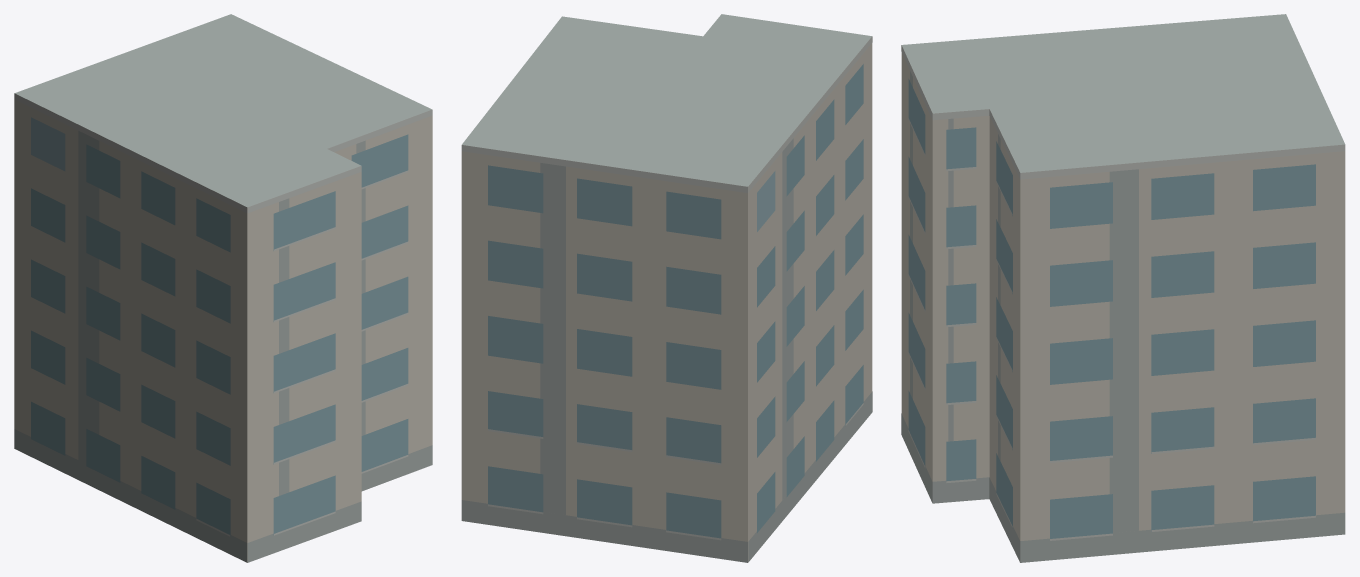
The model's file is survey-upis-32992118.glb.
The picture shows the model from 3 angles, left to right: view 1: azimuth 30°, elevation 25°; view 2: azimuth 150°, elevation 25°; view 3: azimuth 270°, elevation 25°; orthographic projection. The views are drawn at different scales.
Visible parts, largest first — view 1: survey-upis-32992118.tmp; view 2: survey-upis-32992118.tmp; view 3: survey-upis-32992118.tmp.
Part boxes in pixels (x1,y1,x2,y2): survey-upis-32992118.tmp: (14,14,432,562); survey-upis-32992118.tmp: (461,14,872,562); survey-upis-32992118.tmp: (901,14,1345,562).
Size of the model in its own units: 12.55 by 14.35 by 14.81.
